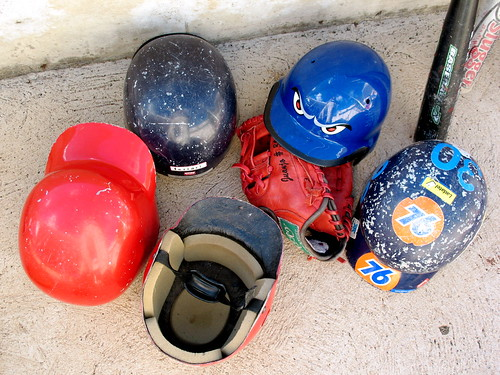helmet: (9, 160, 138, 310), (365, 142, 491, 283), (114, 31, 237, 175), (282, 13, 390, 144)
